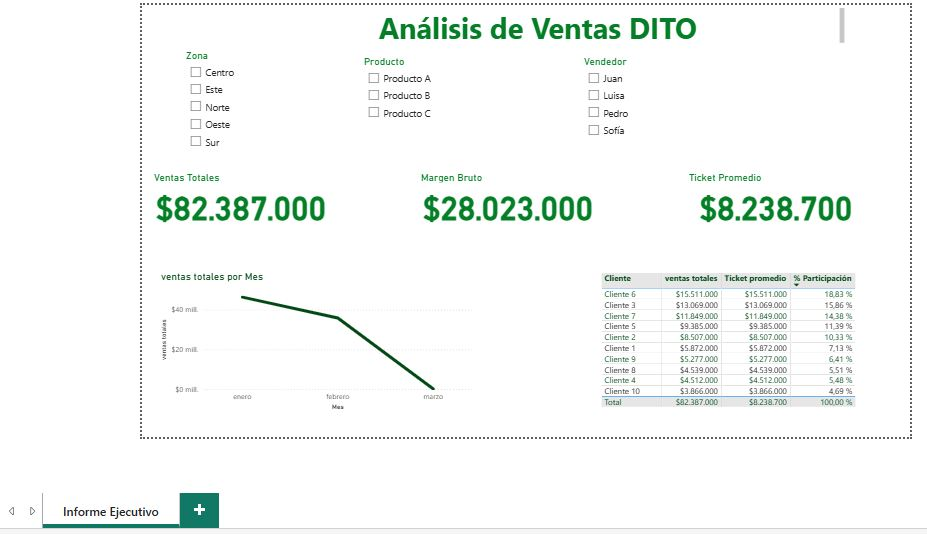

This screenshot's page, from the dashboard's own definition file:
{"tool":"powerbi","page":{"name":"Informe Ejecutivo","canvas":[1280,720],"ordinal":0},"visuals":[{"type":"textbox","box":[151.3,0,1024.2,70.5],"z":0},{"type":"card","title":"Ventas Totales","fields":{"Values":["Tabla_Medidas.ventas totales"]},"box":[14.7,276.2,299.8,91.1],"z":1000},{"type":"card","title":"Margen Bruto","fields":{"Values":["Tabla_Medidas.Margen Bruto"]},"box":[459.9,276.2,299.8,91.1],"z":2000},{"type":"card","title":"Ticket Promedio","fields":{"Values":["Tabla_Medidas.Ticket promedio"]},"box":[906.6,276.2,299.8,91.1],"z":3000},{"type":"lineChart","fields":{"Category":["Archivo_ventas.Fecha.Variación.Jerarquía de fechas.Mes"],"Y":["Tabla_Medidas.ventas totales"]},"box":[26.4,442.3,527.5,238],"z":4000},{"type":"slicer","title":"Zona","fields":{"Values":["Archivo_ventas.Zona"]},"box":[67.6,73.5,246.9,174.9],"z":5000},{"type":"slicer","title":"Producto","fields":{"Values":["Archivo_ventas.Producto"]},"box":[364.4,83.8,211.6,164.6],"z":6000},{"type":"slicer","title":"Vendedor","fields":{"Values":["Archivo_ventas.Vendedor"]},"box":[731.8,83.8,245.4,164.6],"z":7000},{"type":"tableEx","fields":{"Values":["Archivo_ventas.Cliente","Tabla_Medidas.ventas totales","Tabla_Medidas.Ticket promedio","Tabla_Medidas.% Participación"]},"box":[759.7,442.3,457,248.3],"z":7001}]}

Visuals, with their boxes on the page's 1280x720 design canvas (x1, y1, x2, y2). These are canvas units, not pixel positions in the 927x534 screenshot, which may show the page scaled, cropped or inside an application window:
textbox: {"left": 151, "top": 0, "right": 1176, "bottom": 70}
"Ventas Totales" card: {"left": 15, "top": 276, "right": 314, "bottom": 367}
"Margen Bruto" card: {"left": 460, "top": 276, "right": 760, "bottom": 367}
"Ticket Promedio" card: {"left": 907, "top": 276, "right": 1206, "bottom": 367}
lineChart - Archivo_ventas.Fecha.Variación.Jerarquía de fechas.Mes x Tabla_Medidas.ventas totales: {"left": 26, "top": 442, "right": 554, "bottom": 680}
"Zona" slicer: {"left": 68, "top": 74, "right": 314, "bottom": 248}
"Producto" slicer: {"left": 364, "top": 84, "right": 576, "bottom": 248}
"Vendedor" slicer: {"left": 732, "top": 84, "right": 977, "bottom": 248}
tableEx - Archivo_ventas.Cliente x Tabla_Medidas.ventas totales: {"left": 760, "top": 442, "right": 1217, "bottom": 691}
